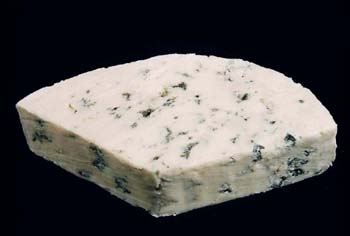Penicillium: (155, 128, 212, 178), (251, 130, 308, 177), (27, 107, 74, 152), (148, 78, 197, 115)
